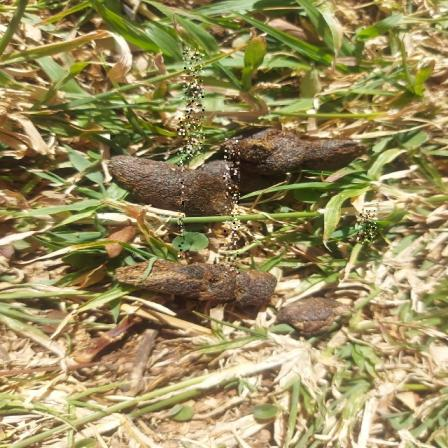dog-poop: (113, 256, 361, 334), (115, 139, 229, 220), (225, 121, 368, 178)
